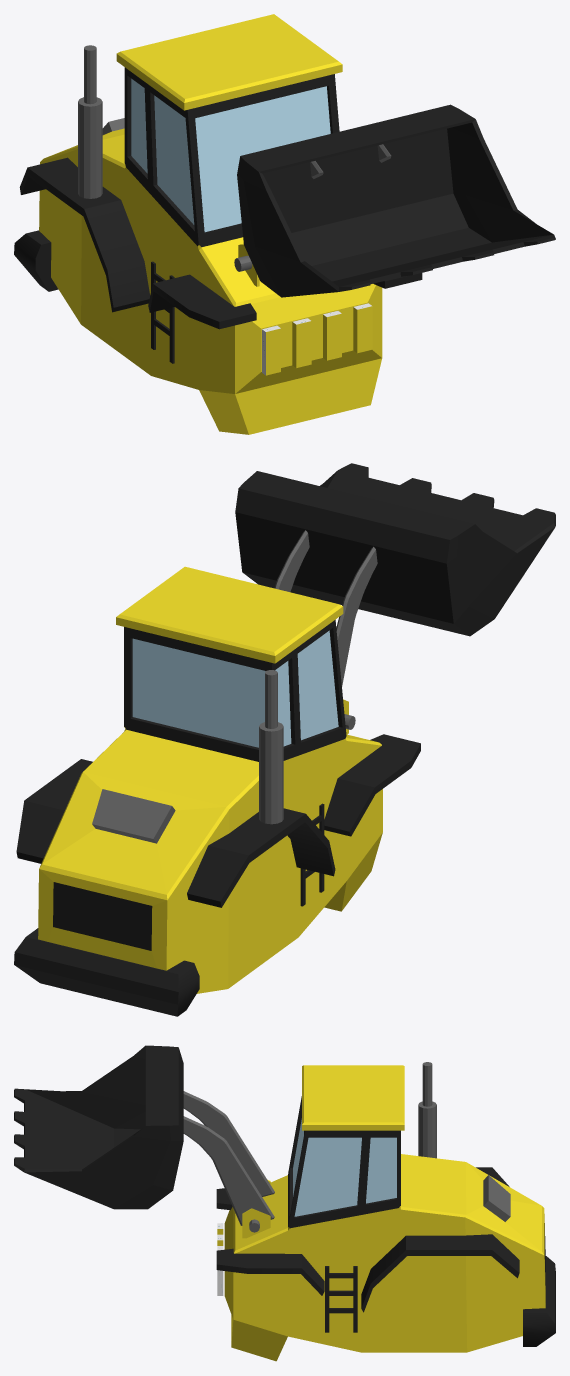
File: tractor_body.glb
3 renders of one model, top to bottom at view 1: azimuth 30°, elevation 25°; view 2: azimuth 150°, elevation 25°; view 3: azimuth 270°, elevation 25°, orthographic. The views are drawn at different scales.
Visible parts, largest first — view 1: Front_Forks.001; view 2: Front_Forks.001; view 3: Front_Forks.001.
Part boxes in pixels (left/top/right/bottom): Front_Forks.001: left=14, top=14, right=555, bottom=434; Front_Forks.001: left=14, top=463, right=555, bottom=1016; Front_Forks.001: left=14, top=1045, right=555, bottom=1361.
Size of the model in its own units: 1.35 by 1.93 by 3.74.
1 material, 1 textured.
